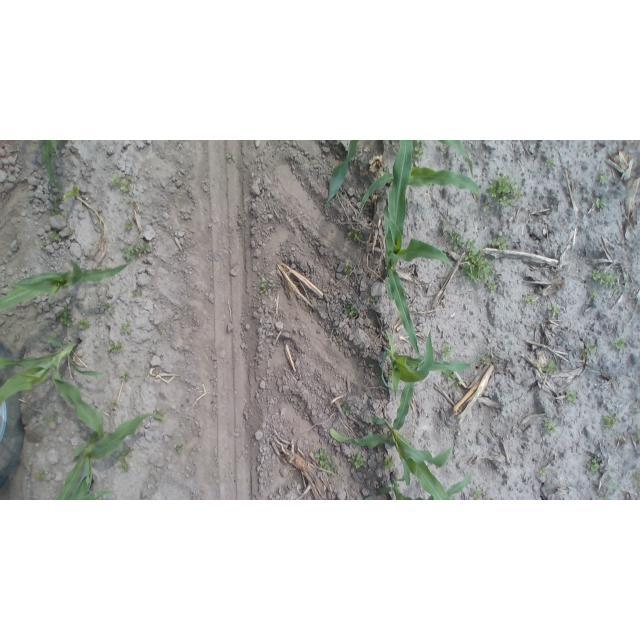Maize: (382, 141, 456, 360), (328, 377, 452, 500), (1, 334, 108, 443), (55, 413, 168, 500), (1, 258, 130, 312), (358, 167, 482, 221), (380, 329, 473, 394), (320, 141, 365, 218), (375, 472, 474, 501), (41, 140, 66, 194), (439, 140, 476, 176)
Weeds: (484, 176, 524, 209), (460, 250, 493, 284), (588, 270, 621, 293), (448, 229, 477, 252), (315, 448, 336, 476), (116, 447, 133, 476), (48, 196, 66, 221), (491, 234, 513, 252), (56, 305, 73, 327), (602, 412, 619, 430), (121, 244, 140, 260), (413, 141, 426, 164), (580, 342, 597, 358), (346, 228, 362, 245), (593, 171, 609, 187), (351, 452, 366, 469), (63, 186, 79, 201), (586, 458, 601, 474), (109, 340, 124, 355), (139, 237, 154, 252), (121, 176, 134, 193), (612, 333, 625, 350), (542, 419, 556, 434), (543, 360, 557, 375), (593, 196, 608, 210), (260, 276, 271, 295), (565, 388, 577, 405), (347, 305, 362, 318), (75, 318, 91, 330), (110, 172, 122, 188), (383, 456, 395, 472), (35, 469, 49, 482), (547, 305, 561, 318), (523, 294, 537, 307), (341, 402, 352, 418), (532, 208, 553, 216), (441, 345, 452, 360), (481, 199, 492, 214), (441, 371, 457, 381), (120, 322, 132, 335), (39, 416, 51, 429), (121, 370, 132, 384), (225, 149, 235, 164), (543, 158, 555, 170), (344, 260, 353, 276), (176, 443, 187, 456), (47, 231, 61, 241), (588, 289, 600, 300), (154, 408, 164, 421), (632, 471, 640, 487), (104, 303, 114, 315), (487, 282, 499, 292), (442, 219, 455, 228), (633, 426, 640, 442), (122, 221, 134, 230), (474, 492, 485, 501), (111, 401, 120, 411), (540, 467, 549, 477), (609, 481, 618, 491), (451, 381, 461, 389), (370, 298, 378, 307), (64, 227, 72, 235), (482, 357, 490, 365), (391, 141, 400, 148), (605, 494, 614, 500), (51, 410, 57, 418), (271, 282, 277, 290), (39, 243, 45, 249), (6, 248, 13, 253), (474, 439, 479, 444)
